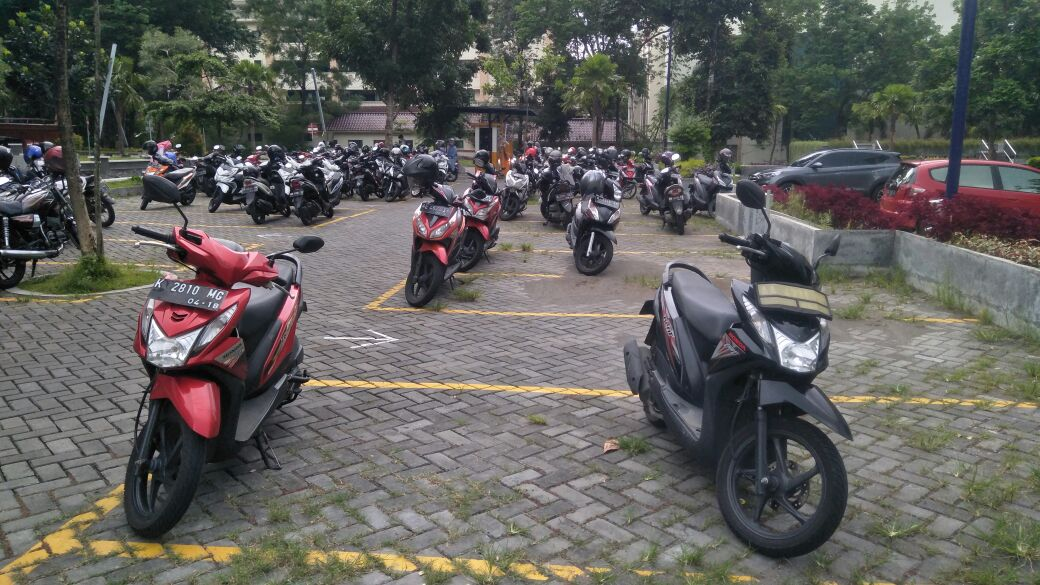plate: (153, 277, 224, 310), (420, 202, 449, 217), (595, 195, 621, 209)
